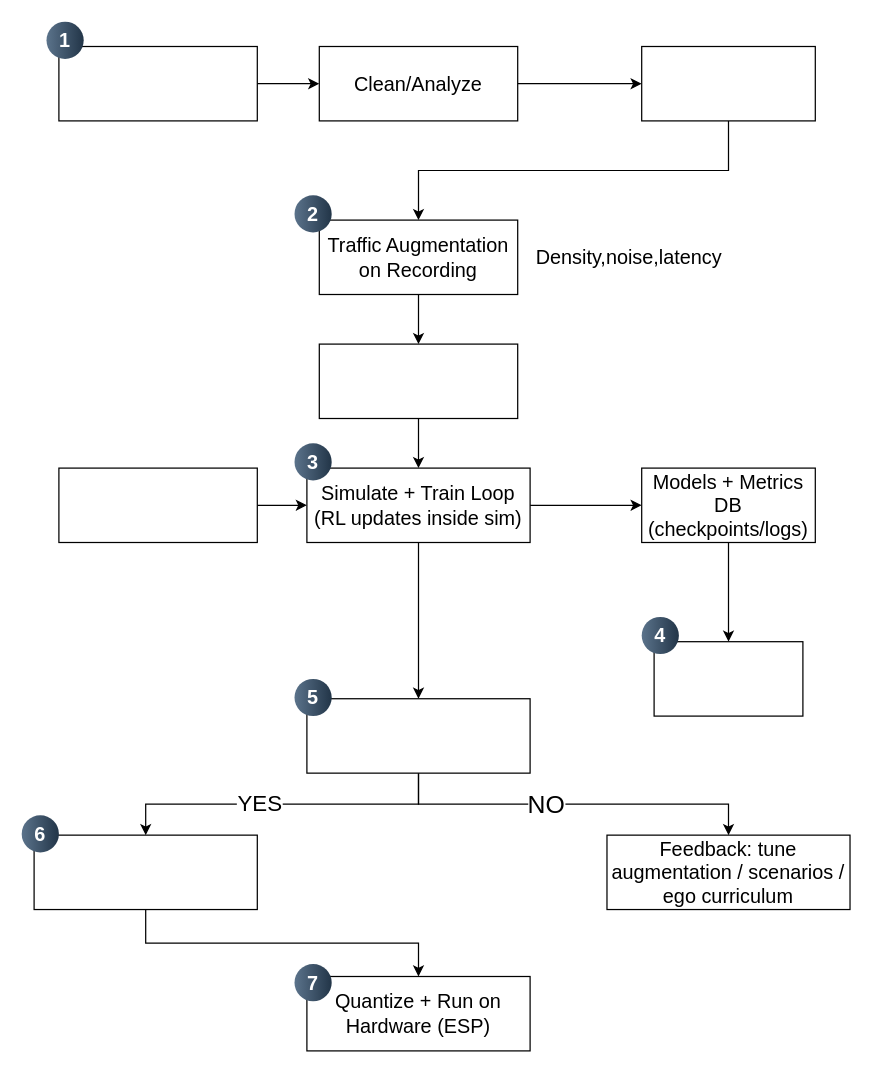
Image size: 872x1073. Some labels were removed from this diagram. The centre of each missing label's shape, as x and y in pixels:
Build Real Road Trajectories DB: the point at 727,83
Ego Manipulation: the point at 157,504
Freeze Best Model: the point at 145,872
Gate: crashes eliminated?: the point at 418,735
Record Real Drive With Physical Cars: the point at 157,83
Scenarios Database: the point at 418,380
Visualize + Replay: the point at 728,678
